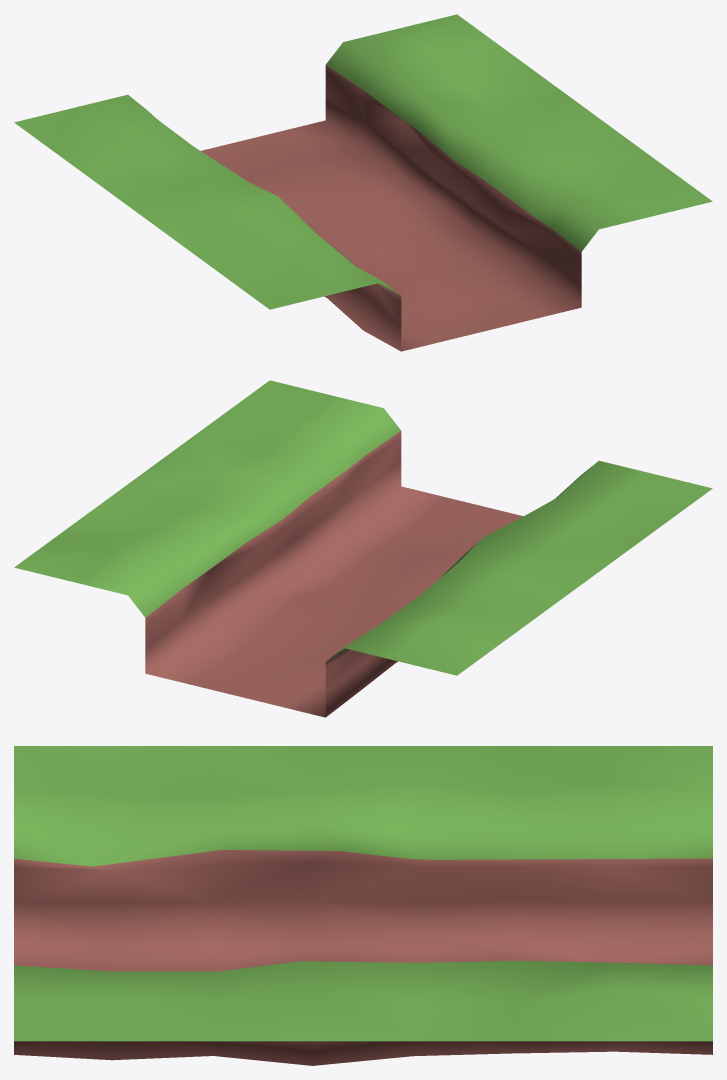
The model's file is river_01.fbx.
3 views of the same model, one above another, from view 1: azimuth 30°, elevation 25°; view 2: azimuth 150°, elevation 25°; view 3: azimuth 270°, elevation 25° (orthographic). The views are drawn at different scales.
Parts seen in each view (by area): view 1: river_01; view 2: river_01; view 3: river_01.
Part boxes in pixels (left/top/right/bottom): river_01: left=14, top=14, right=712, bottom=351; river_01: left=14, top=380, right=712, bottom=717; river_01: left=14, top=746, right=712, bottom=1065.
Bounding box in the file's own units: 1600 × 301 × 1600.
